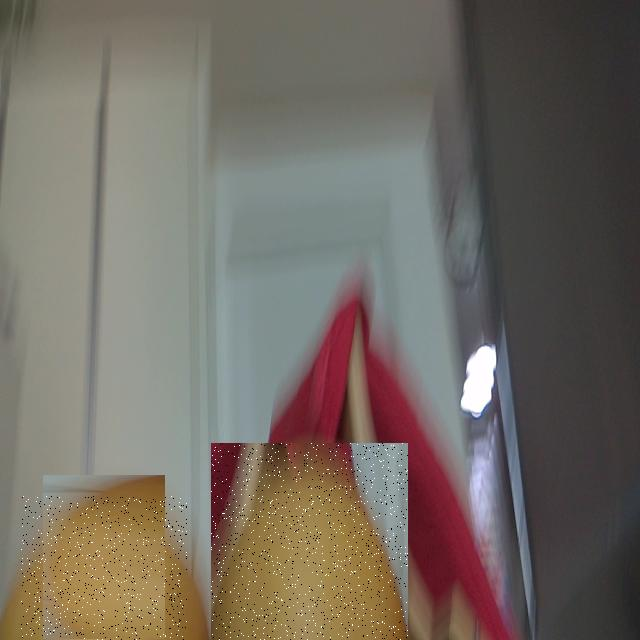pear: (211, 443, 408, 640), (21, 496, 187, 640)
